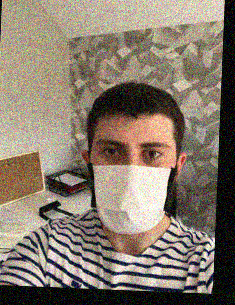with_mask: (88, 129, 178, 233)
